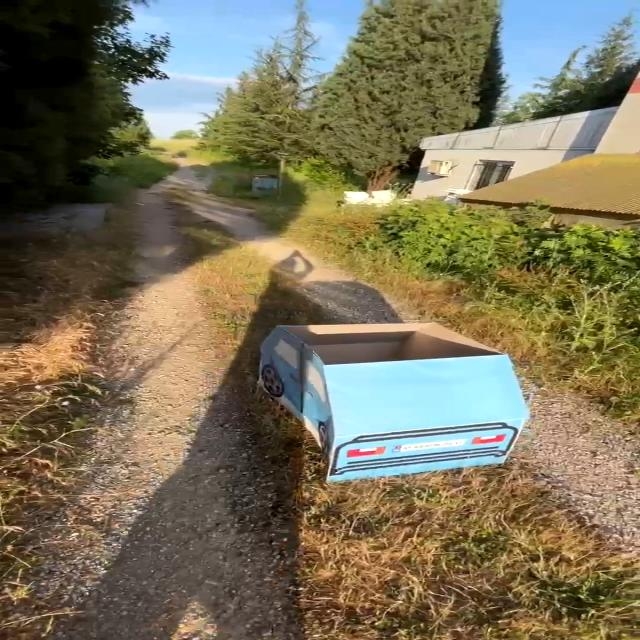blue_car: (215, 303, 566, 511)
